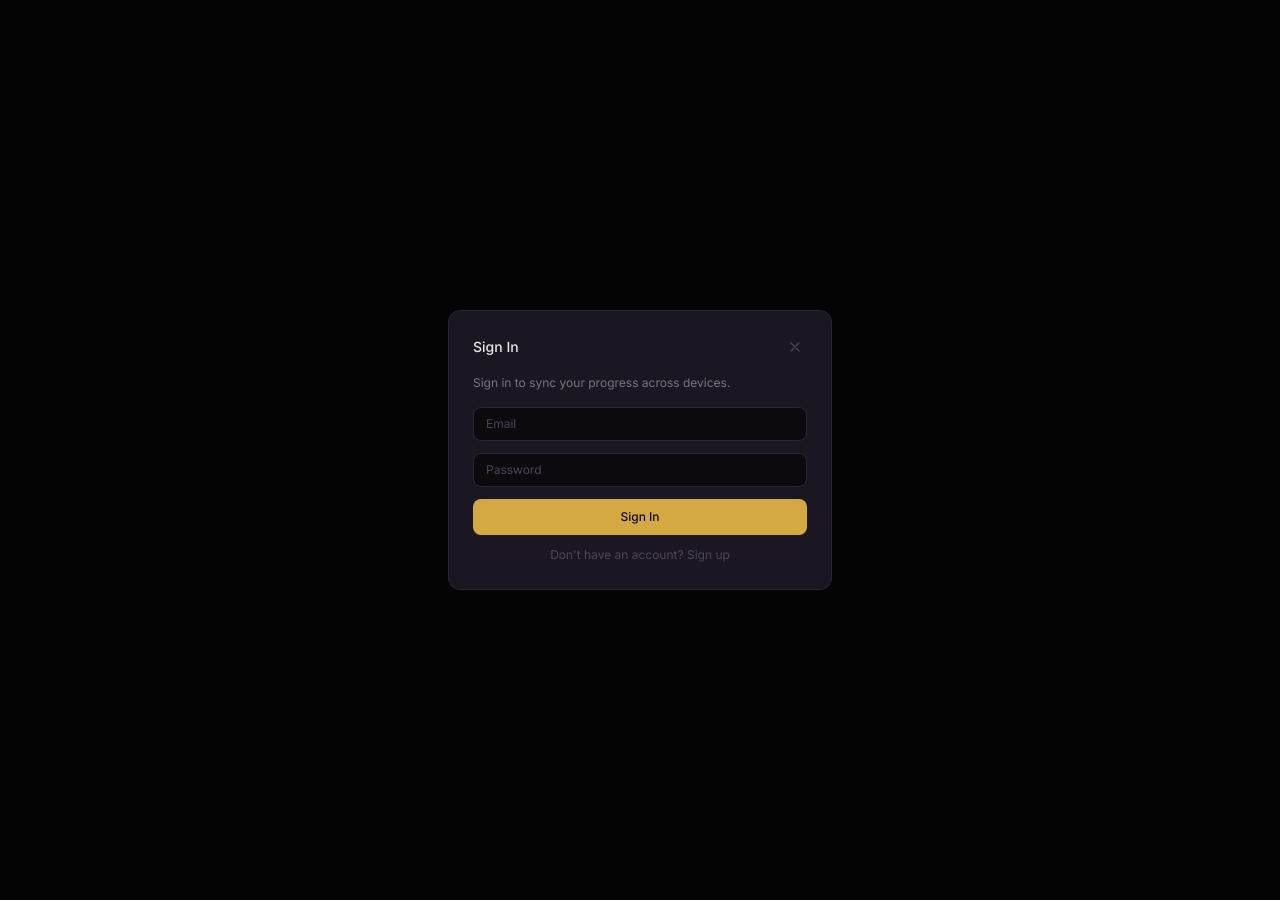
Test case: AuthModal — sign in / sign up form › shows success message on sign up success
Step 1. Click the button "Don't have an account? Sign up" → (640, 555), box [473,547,807,563]
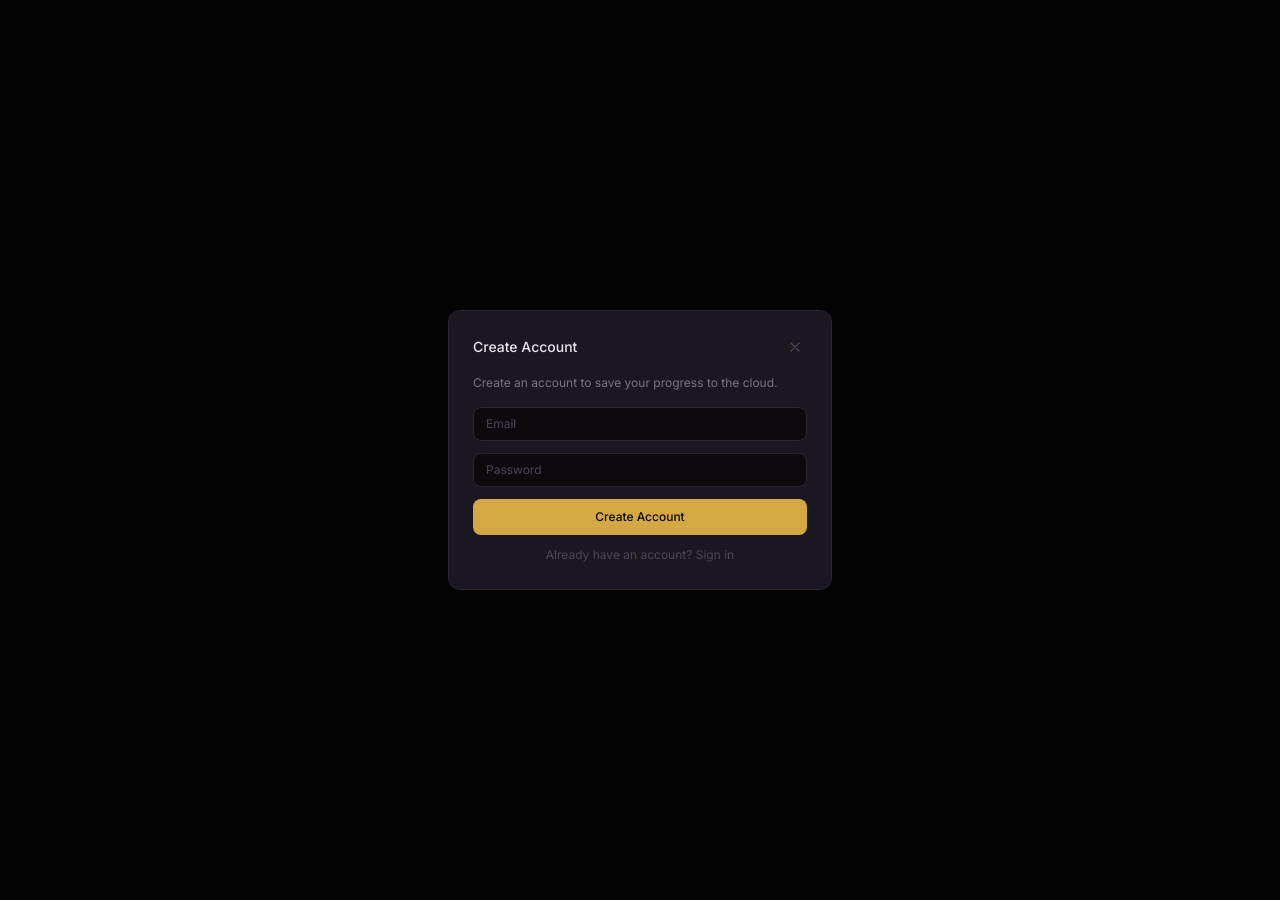
Step 2. Type "new@test.com" into the field with placeholder "Email" → (640, 424), box [473,407,807,441]
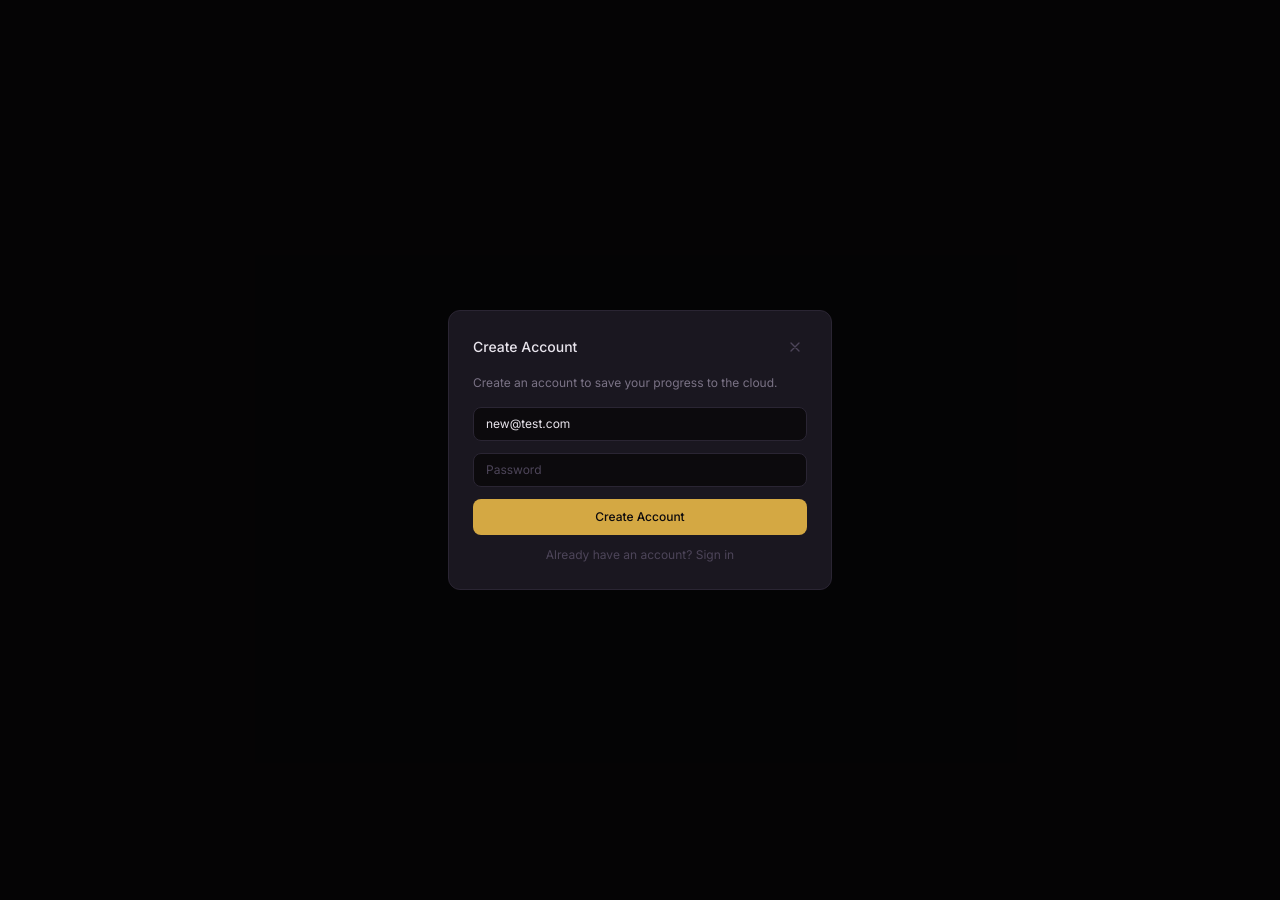
Step 3. Type "pass123456" into the password field with placeholder "Password" → (640, 470), box [473,453,807,487]
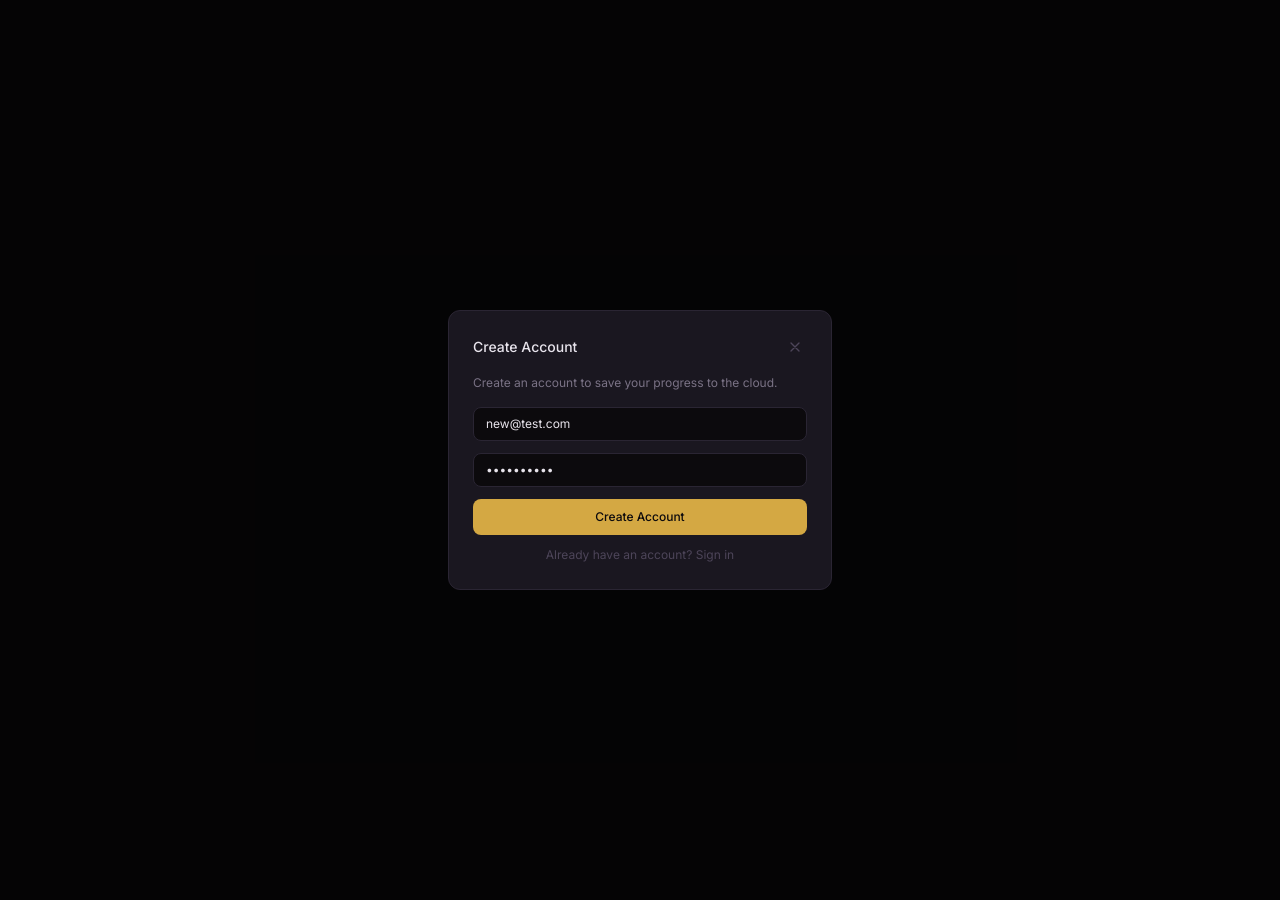
Step 4. Submit the form with placeholder "Email", box [473,407,807,535]
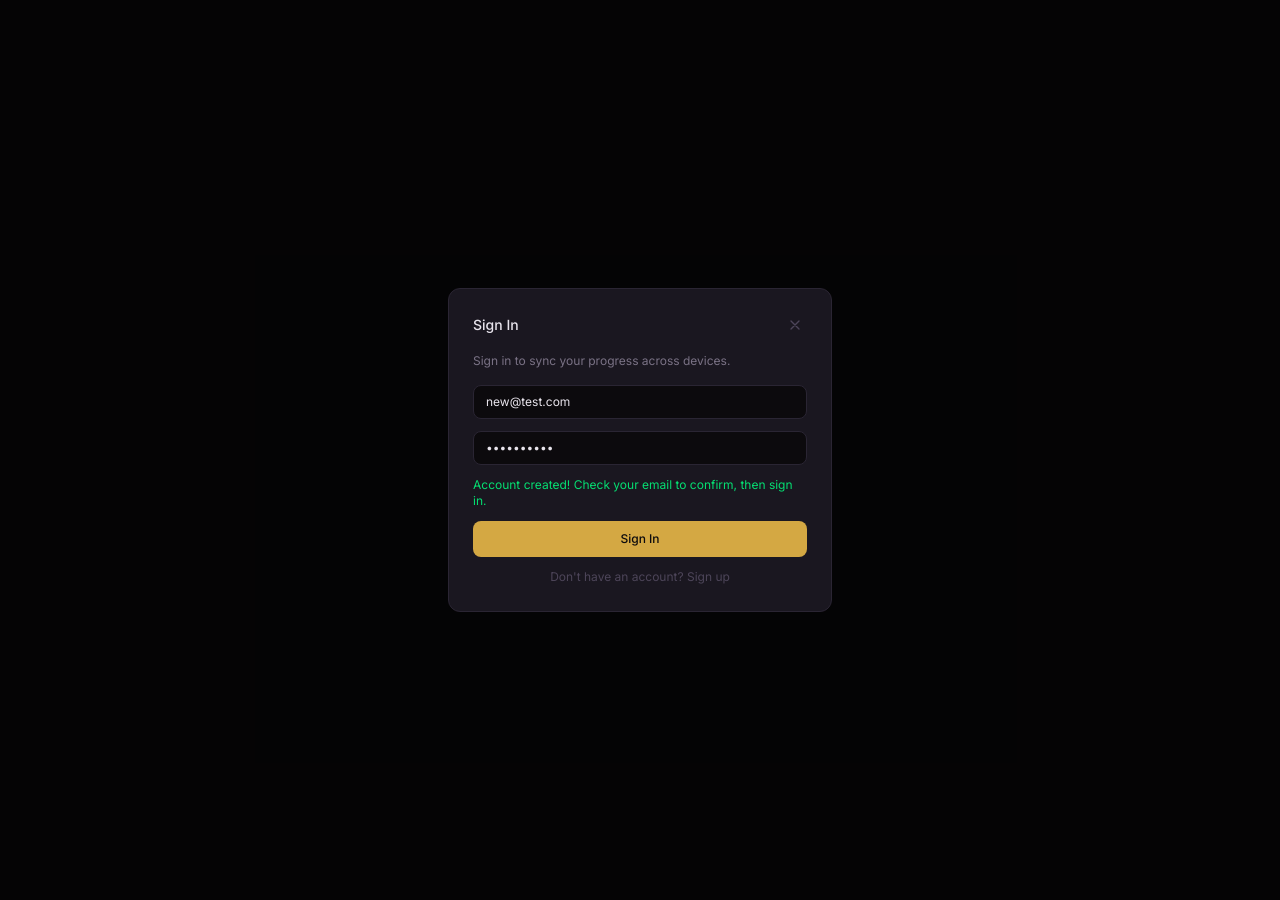
Now the text "Account created! Check your email to confirm, then sign in." is shown, box [473,477,807,509]
